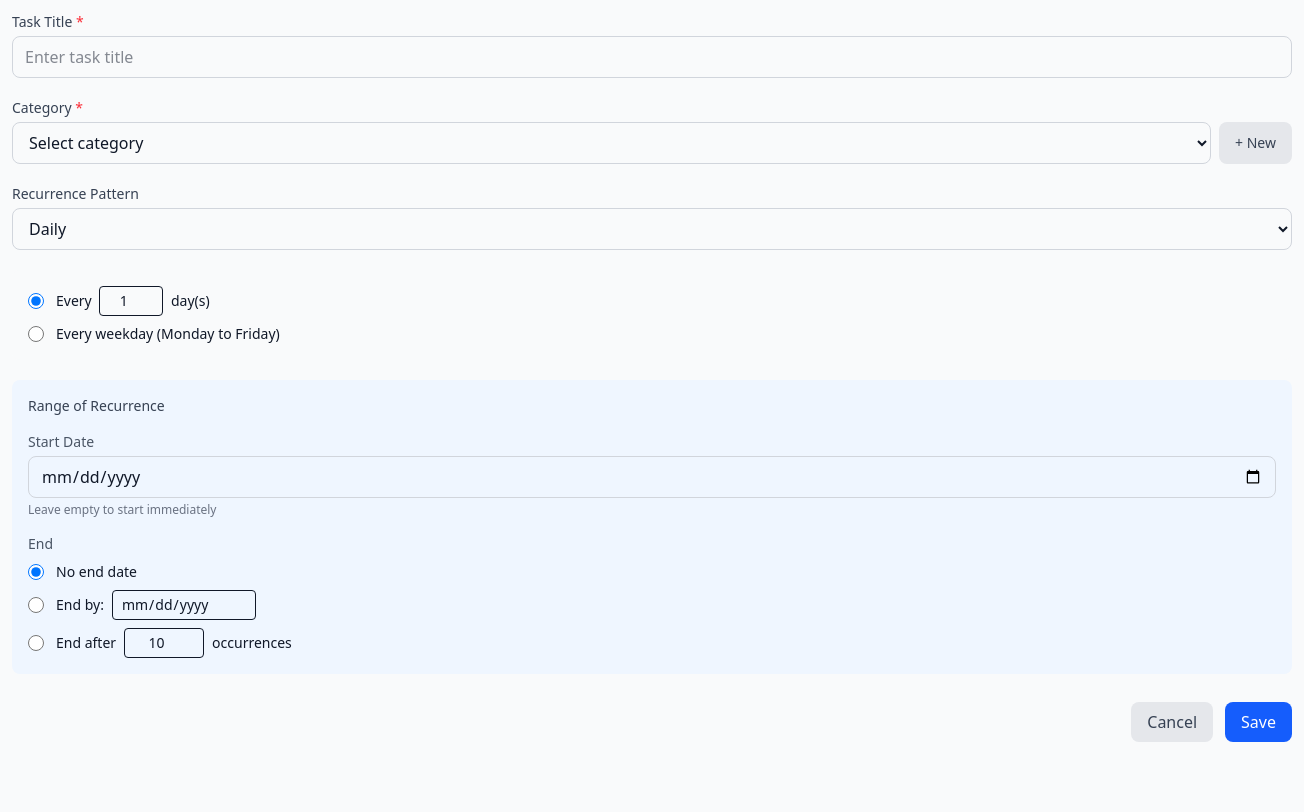
Test: TaskForm › shows monthly options when monthly recurrence is selected
Select "Monthly" in the dropdown below "Recurrence Pattern" at (652, 229), box x1=12 y1=208 x2=1292 y2=250
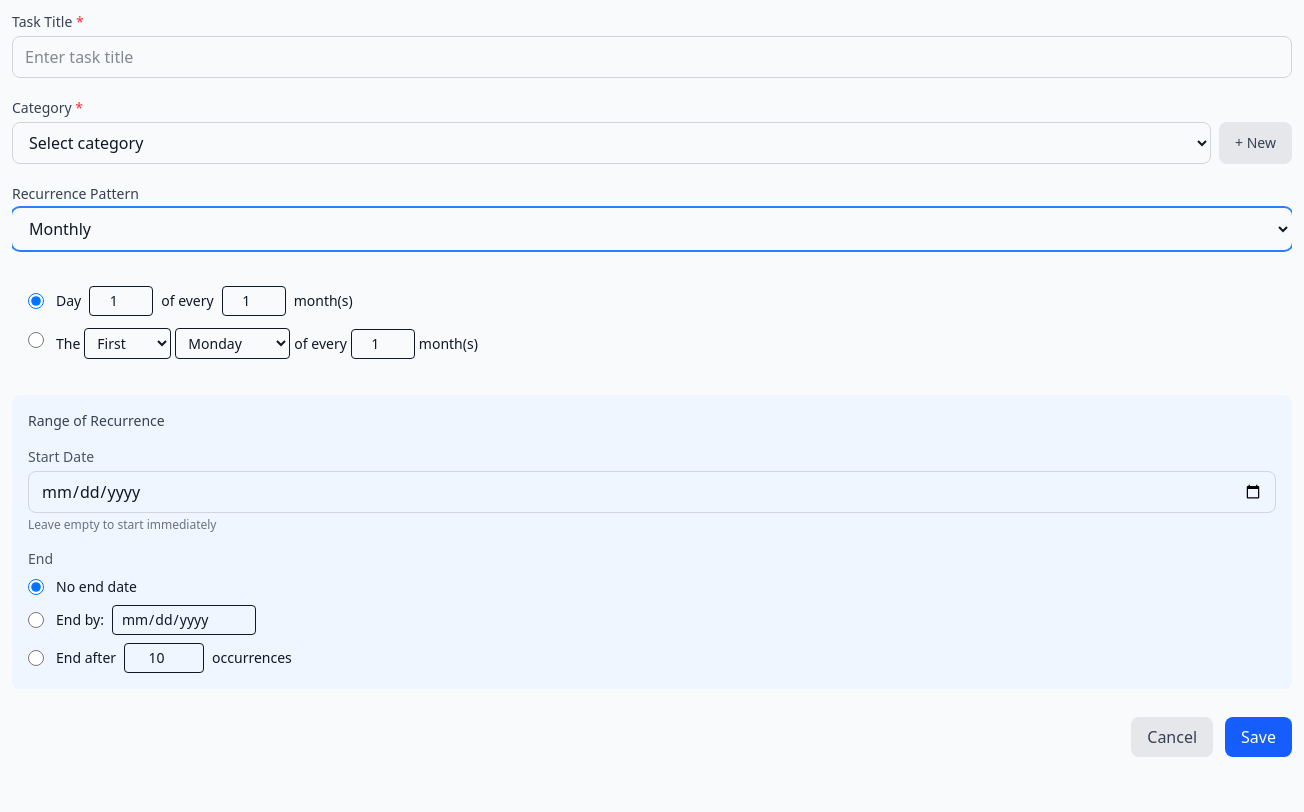
Check: the 1st number field is shown, box x1=89 y1=286 x2=153 y2=316
Check: the text "Day of every month(s)" is shown, box x1=56 y1=286 x2=353 y2=316
